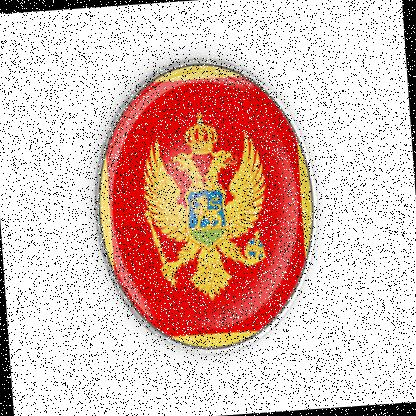me: (83, 52, 329, 359)
